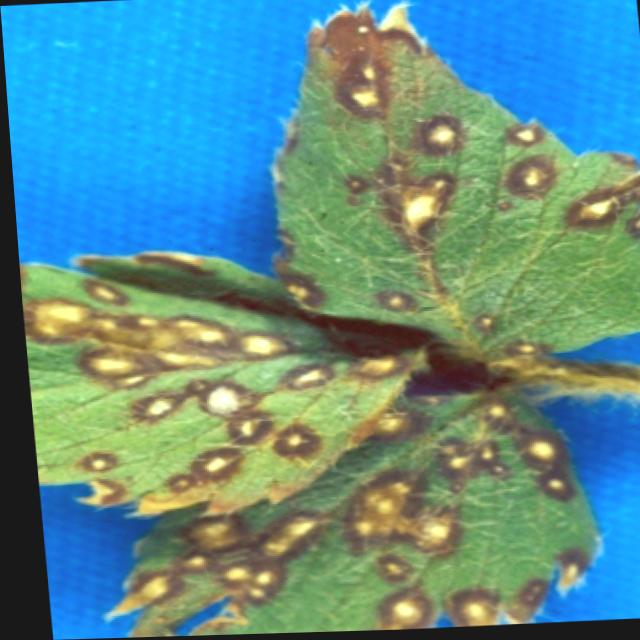Leaf Spot: (269, 1, 640, 367), (92, 391, 595, 638), (15, 260, 424, 519)
